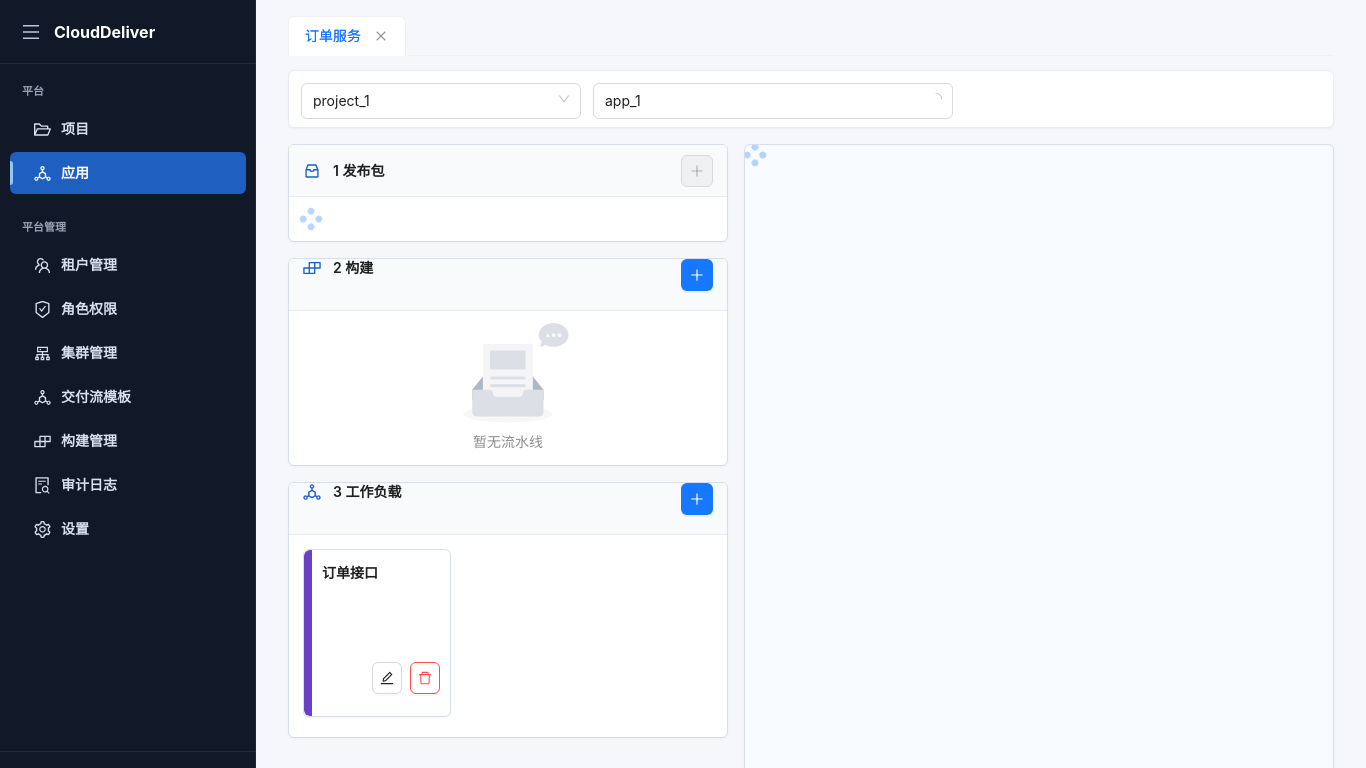
Scenario: 真实 API 创建流水线后即使列表接口暂未返回也立即显示新流水线
Click the button named "创建流水线" at (697, 275), box [681,259,713,291]
(page scrolled)
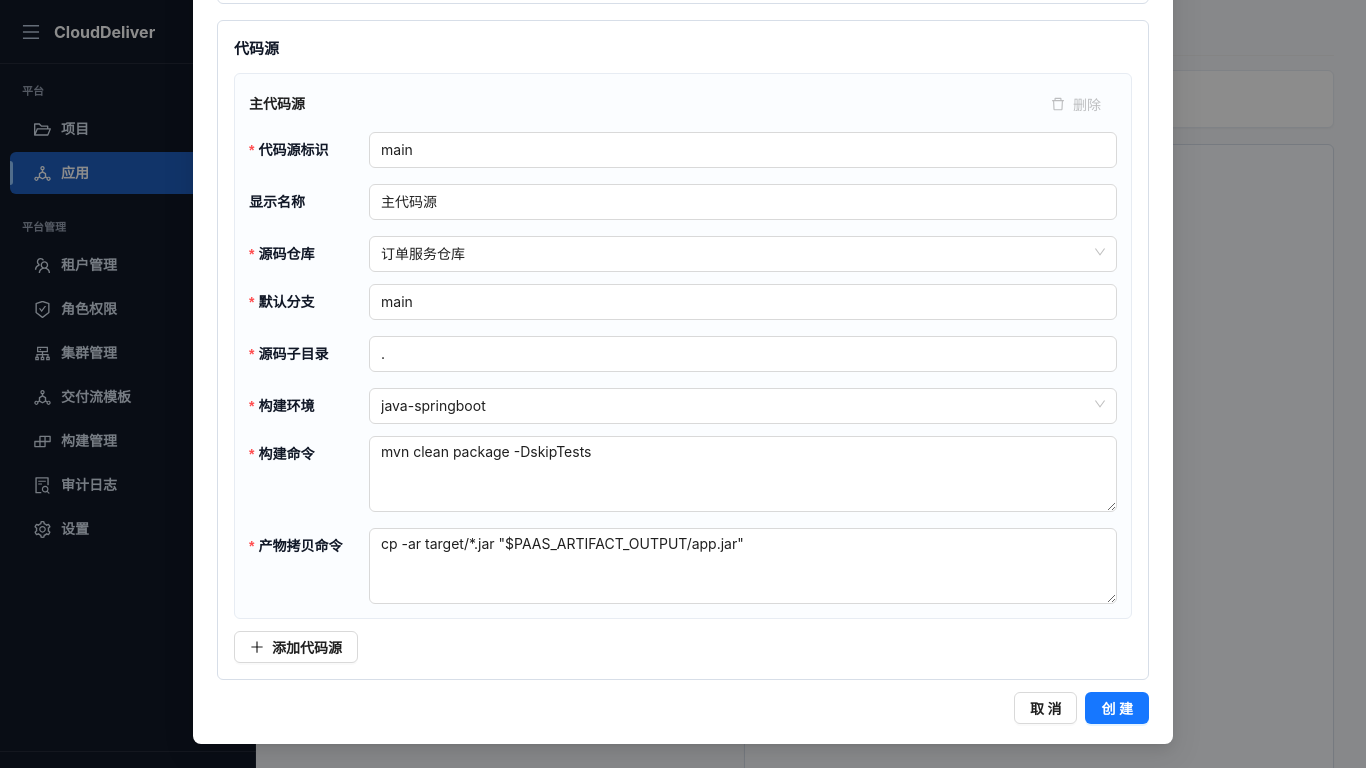
Now the text "主代码源" is shown, box [249,95,305,112]
Click the button "创 建" at (1117, 708), box [1086,692,1149,724]
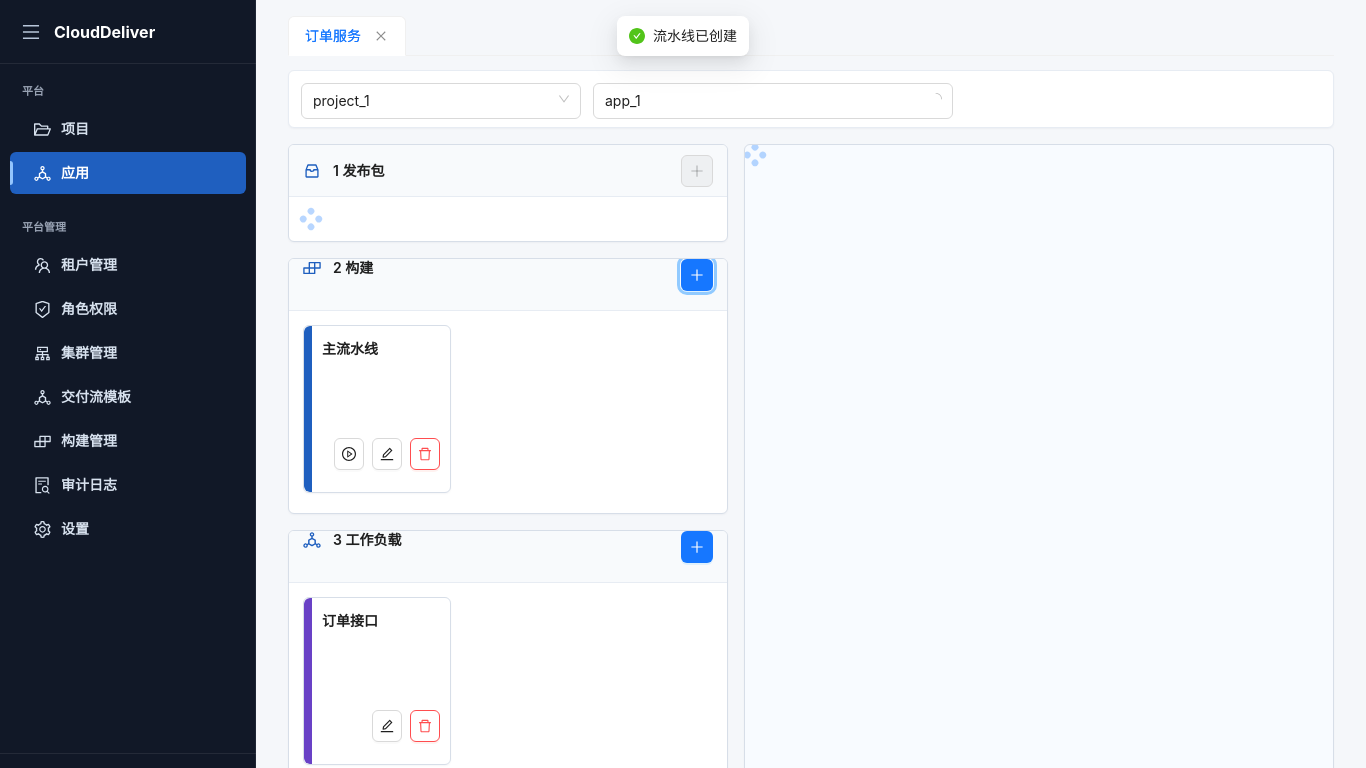
Now the text "主代码源" is gone
Now the button named "触发构建" is empty, box [334,438,364,470]
Now the button named "编辑" below "主流水线" is empty, box [372,438,402,470]
